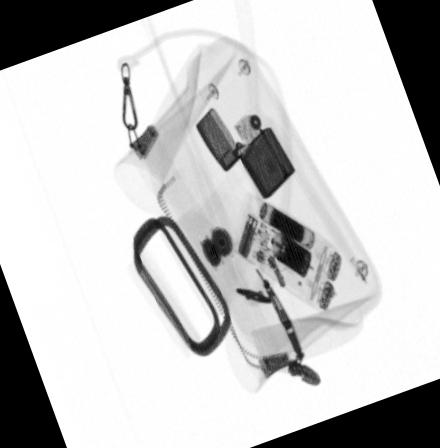Lighter: (194, 106, 296, 200)
